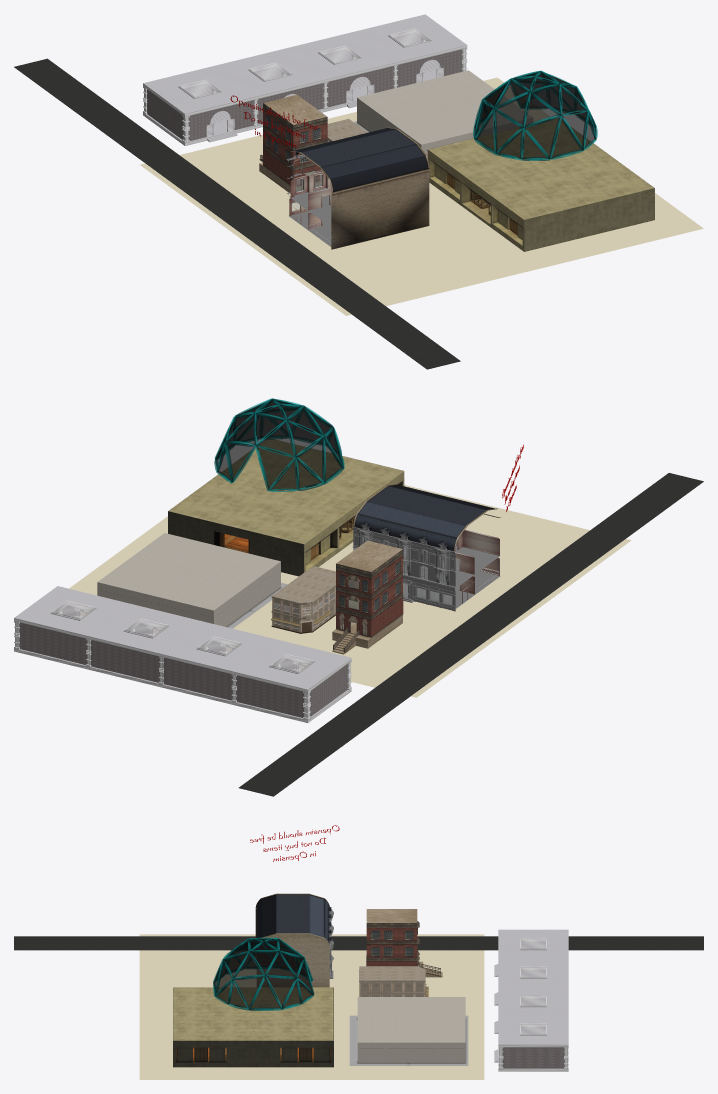
The picture shows the model from 3 angles, top to bottom: view 1: azimuth 30°, elevation 25°; view 2: azimuth 150°, elevation 25°; view 3: azimuth 270°, elevation 25°; orthographic projection. The views are drawn at different scales.
Parts seen in each view (by area): view 1: SC - SMBLDG04 - Building 04, prim0-mesh (×5), Driveway 0.1 - 12.0 - 256.0, Terrain 6,8, Onsu ~ Commercial Prefab ~ Base (×2), GeoDome, Mesh Store, Terrain 7,8, Terrain 6,9, Brownstone Building, Terrain 7,9, Tan corner store (+1 smaller); view 2: SC - SMBLDG04 - Building 04, prim0-mesh (×4), Driveway 0.1 - 12.0 - 256.0, Mesh Store (×2), GeoDome, Terrain 6,9, Onsu ~ Commercial Prefab ~ Base (×3), Brownstone Building, Terrain 6,8, Tan corner store, Terrain 7,9; view 3: prim0-mesh (×6), SC - SMBLDG04 - Building 04, Mesh Store (×3), Driveway 0.1 - 12.0 - 256.0, GeoDome, Onsu ~ Commercial Prefab ~ Base (×2), Terrain 6,9, Terrain 6,8, Terrain 7,9, Terrain 7,8, Brownstone Building, Tan corner store (+1 smaller).
Part boxes in pixels (box(x1,y1,x2,y2)): SC - SMBLDG04 - Building 04: box(143, 14, 467, 145); prim0-mesh (×5): box(428, 118, 654, 251); Driveway 0.1 - 12.0 - 256.0: box(14, 58, 460, 369); Terrain 6,8: box(243, 202, 524, 315); Onsu ~ Commercial Prefab ~ Base (×2): box(294, 128, 429, 249); GeoDome: box(473, 70, 597, 160); Mesh Store: box(357, 70, 532, 150); Terrain 7,8: box(429, 192, 703, 272); Terrain 6,9: box(140, 134, 301, 240); Brownstone Building: box(259, 95, 327, 193); Terrain 7,9: box(327, 77, 549, 194); Tan corner store: box(327, 119, 367, 142); SC - SMBLDG04 - Building 04: box(14, 586, 351, 722); prim0-mesh (×4): box(168, 439, 404, 576); Driveway 0.1 - 12.0 - 256.0: box(239, 473, 703, 796); Mesh Store (×2): box(97, 533, 280, 627); GeoDome: box(214, 398, 344, 491); Terrain 6,9: box(255, 601, 523, 697); Onsu ~ Commercial Prefab ~ Base (×3): box(355, 484, 500, 608); Brownstone Building: box(332, 540, 403, 654); Terrain 6,8: box(444, 495, 631, 618); Tan corner store: box(271, 566, 335, 633); Terrain 7,9: box(69, 528, 298, 651); prim0-mesh (×6): box(173, 987, 333, 1067); SC - SMBLDG04 - Building 04: box(498, 929, 568, 1071); Mesh Store (×3): box(349, 997, 468, 1065); Driveway 0.1 - 12.0 - 256.0: box(14, 936, 703, 950); GeoDome: box(213, 937, 314, 1010); Onsu ~ Commercial Prefab ~ Base (×2): box(256, 894, 330, 987); Terrain 6,9: box(329, 934, 484, 1006); Terrain 6,8: box(139, 934, 256, 1006); Terrain 7,9: box(312, 1007, 484, 1079); Terrain 7,8: box(139, 1007, 311, 1079); Brownstone Building: box(366, 909, 442, 977); Tan corner store: box(359, 966, 428, 996).
Size of what is drawn, in the model's own units: 128 by 48.28 by 256.
133 materials, 127 textured.
